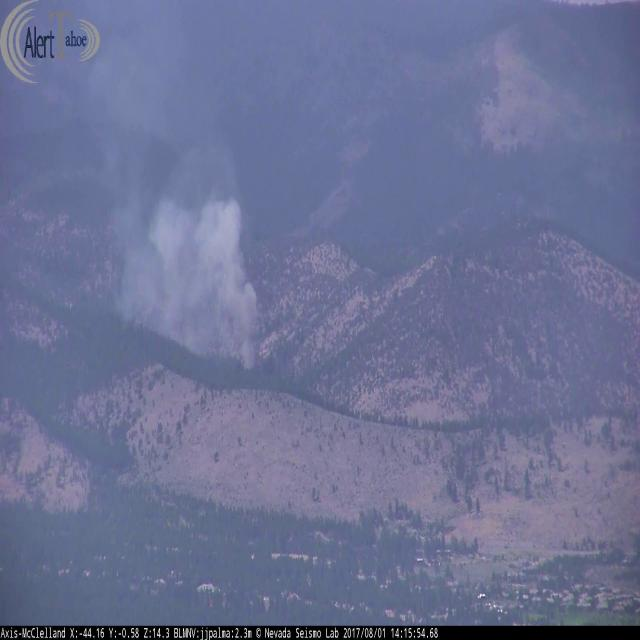smoke: (108, 31, 269, 380)
